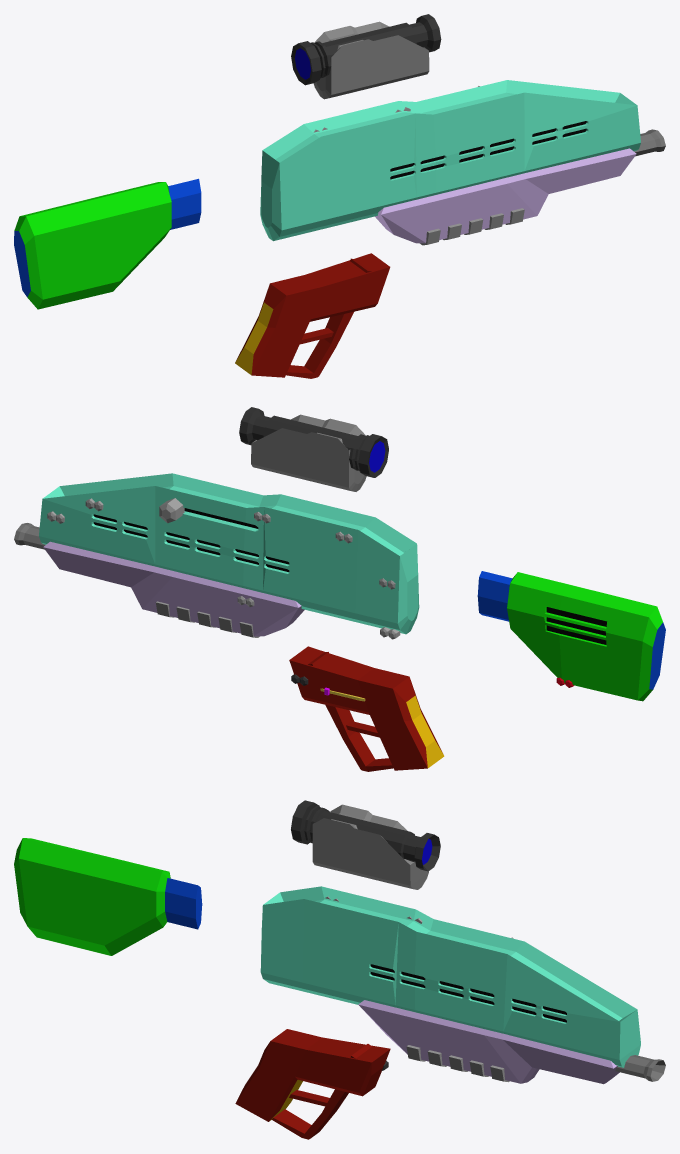
File: Starter Gun.fbx
3 views of the same model, one above another, from view 1: azimuth 30°, elevation 25°; view 2: azimuth 150°, elevation 25°; view 3: azimuth 330°, elevation 25° (orthographic).
Visible parts, largest first — view 1: Body, Stock, Trigger, Scope; view 2: Body, Stock, Trigger, Scope; view 3: Body, Stock, Trigger, Scope.
Part boxes in pixels (x1=…): Body: x1=260, y1=80, x2=665, y2=245; Stock: x1=14, y1=178, x2=201, y2=309; Trigger: x1=235, y1=253, x2=390, y2=378; Scope: x1=291, y1=14, x2=441, y2=99; Body: x1=14, y1=473, x2=419, y2=639; Stock: x1=477, y1=571, x2=665, y2=701; Trigger: x1=289, y1=646, x2=444, y2=771; Scope: x1=239, y1=407, x2=388, y2=491; Body: x1=260, y1=886, x2=665, y2=1084; Stock: x1=14, y1=838, x2=202, y2=955; Trigger: x1=235, y1=1029, x2=390, y2=1139; Scope: x1=291, y1=800, x2=440, y2=889.
Size of the model in its own units: 1140 by 563 by 91.29.
